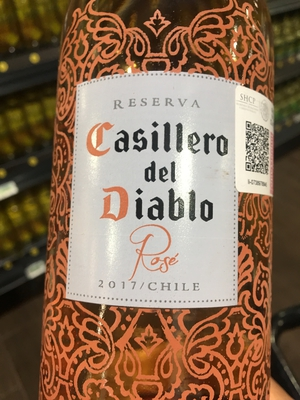casillero del diablo rose: (37, 6, 290, 400)
